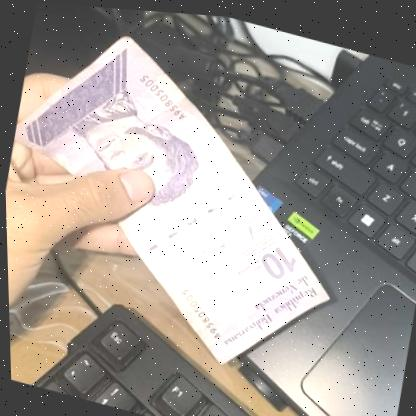ten-front-vef: (0, 7, 371, 387)
